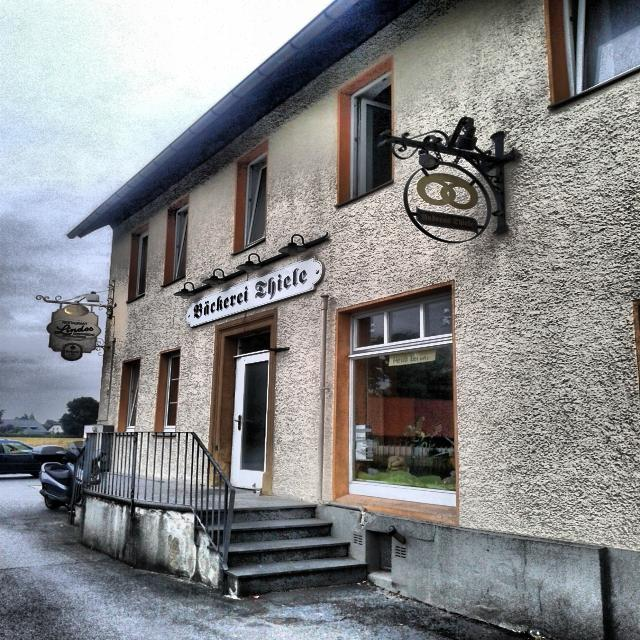escada: (175, 504, 375, 595)
